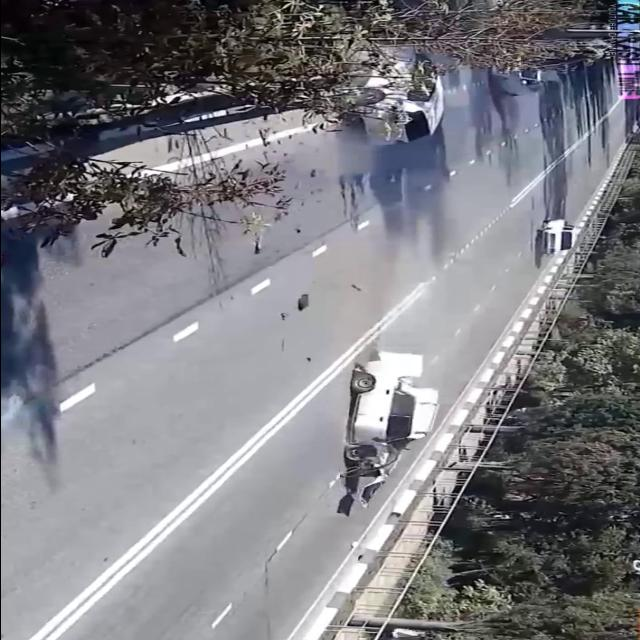accident: (323, 349, 454, 515)
